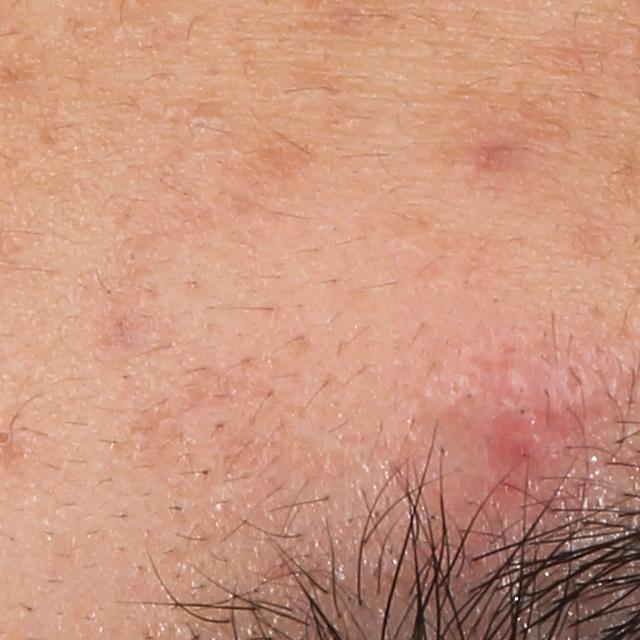comedo: (185, 110, 210, 139), (122, 246, 138, 265)
